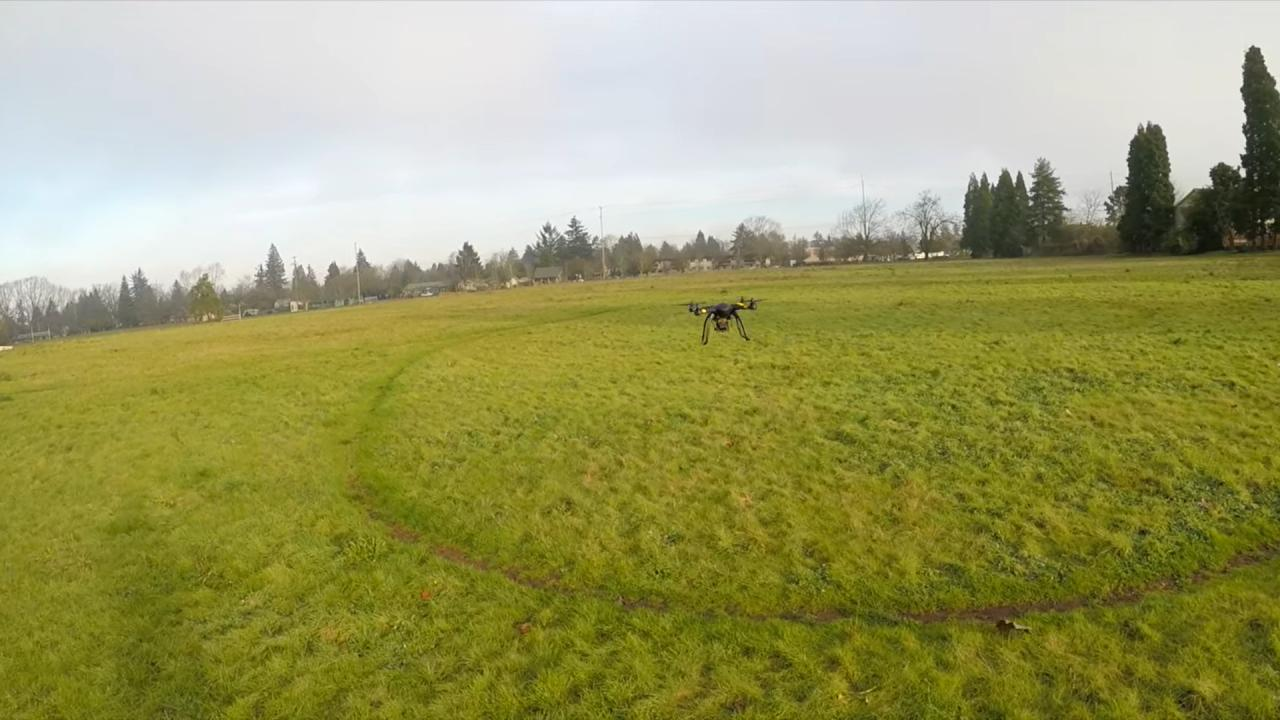Drone: (670, 281, 774, 360)
